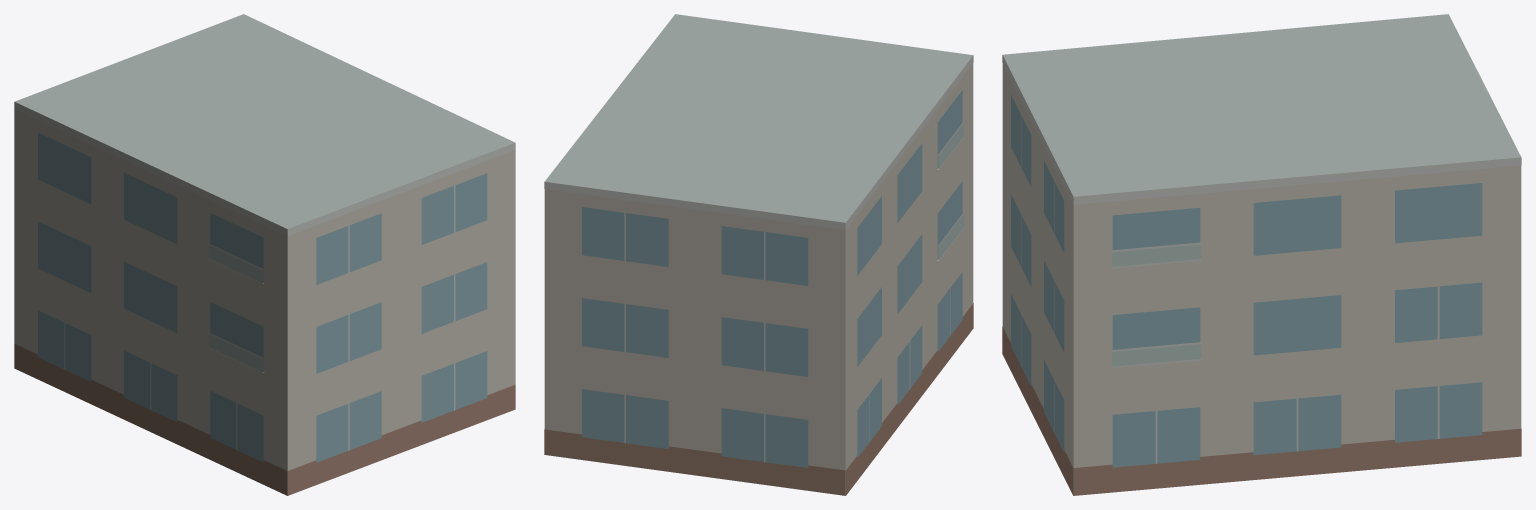
The model's file is survey-upis-32646361.glb.
3 views of the same model, side by side, from view 1: azimuth 30°, elevation 25°; view 2: azimuth 150°, elevation 25°; view 3: azimuth 270°, elevation 25° (orthographic). The views are drawn at different scales.
Parts seen in each view (by area): view 1: survey-upis-32646361.tmp; view 2: survey-upis-32646361.tmp; view 3: survey-upis-32646361.tmp.
Boxes of the visible parts, x1,y1,x2,y2 form: survey-upis-32646361.tmp: (14, 14, 515, 495); survey-upis-32646361.tmp: (544, 14, 973, 495); survey-upis-32646361.tmp: (1002, 14, 1521, 495).
Bounding box in the file's own units: 12 × 9.15 × 14.4.
